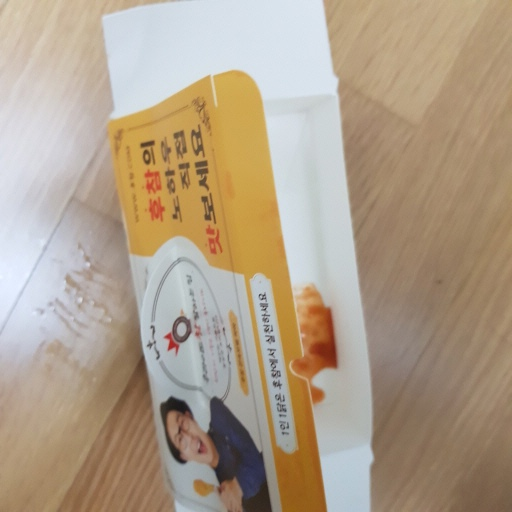Paper_0: (97, 1, 392, 512)
